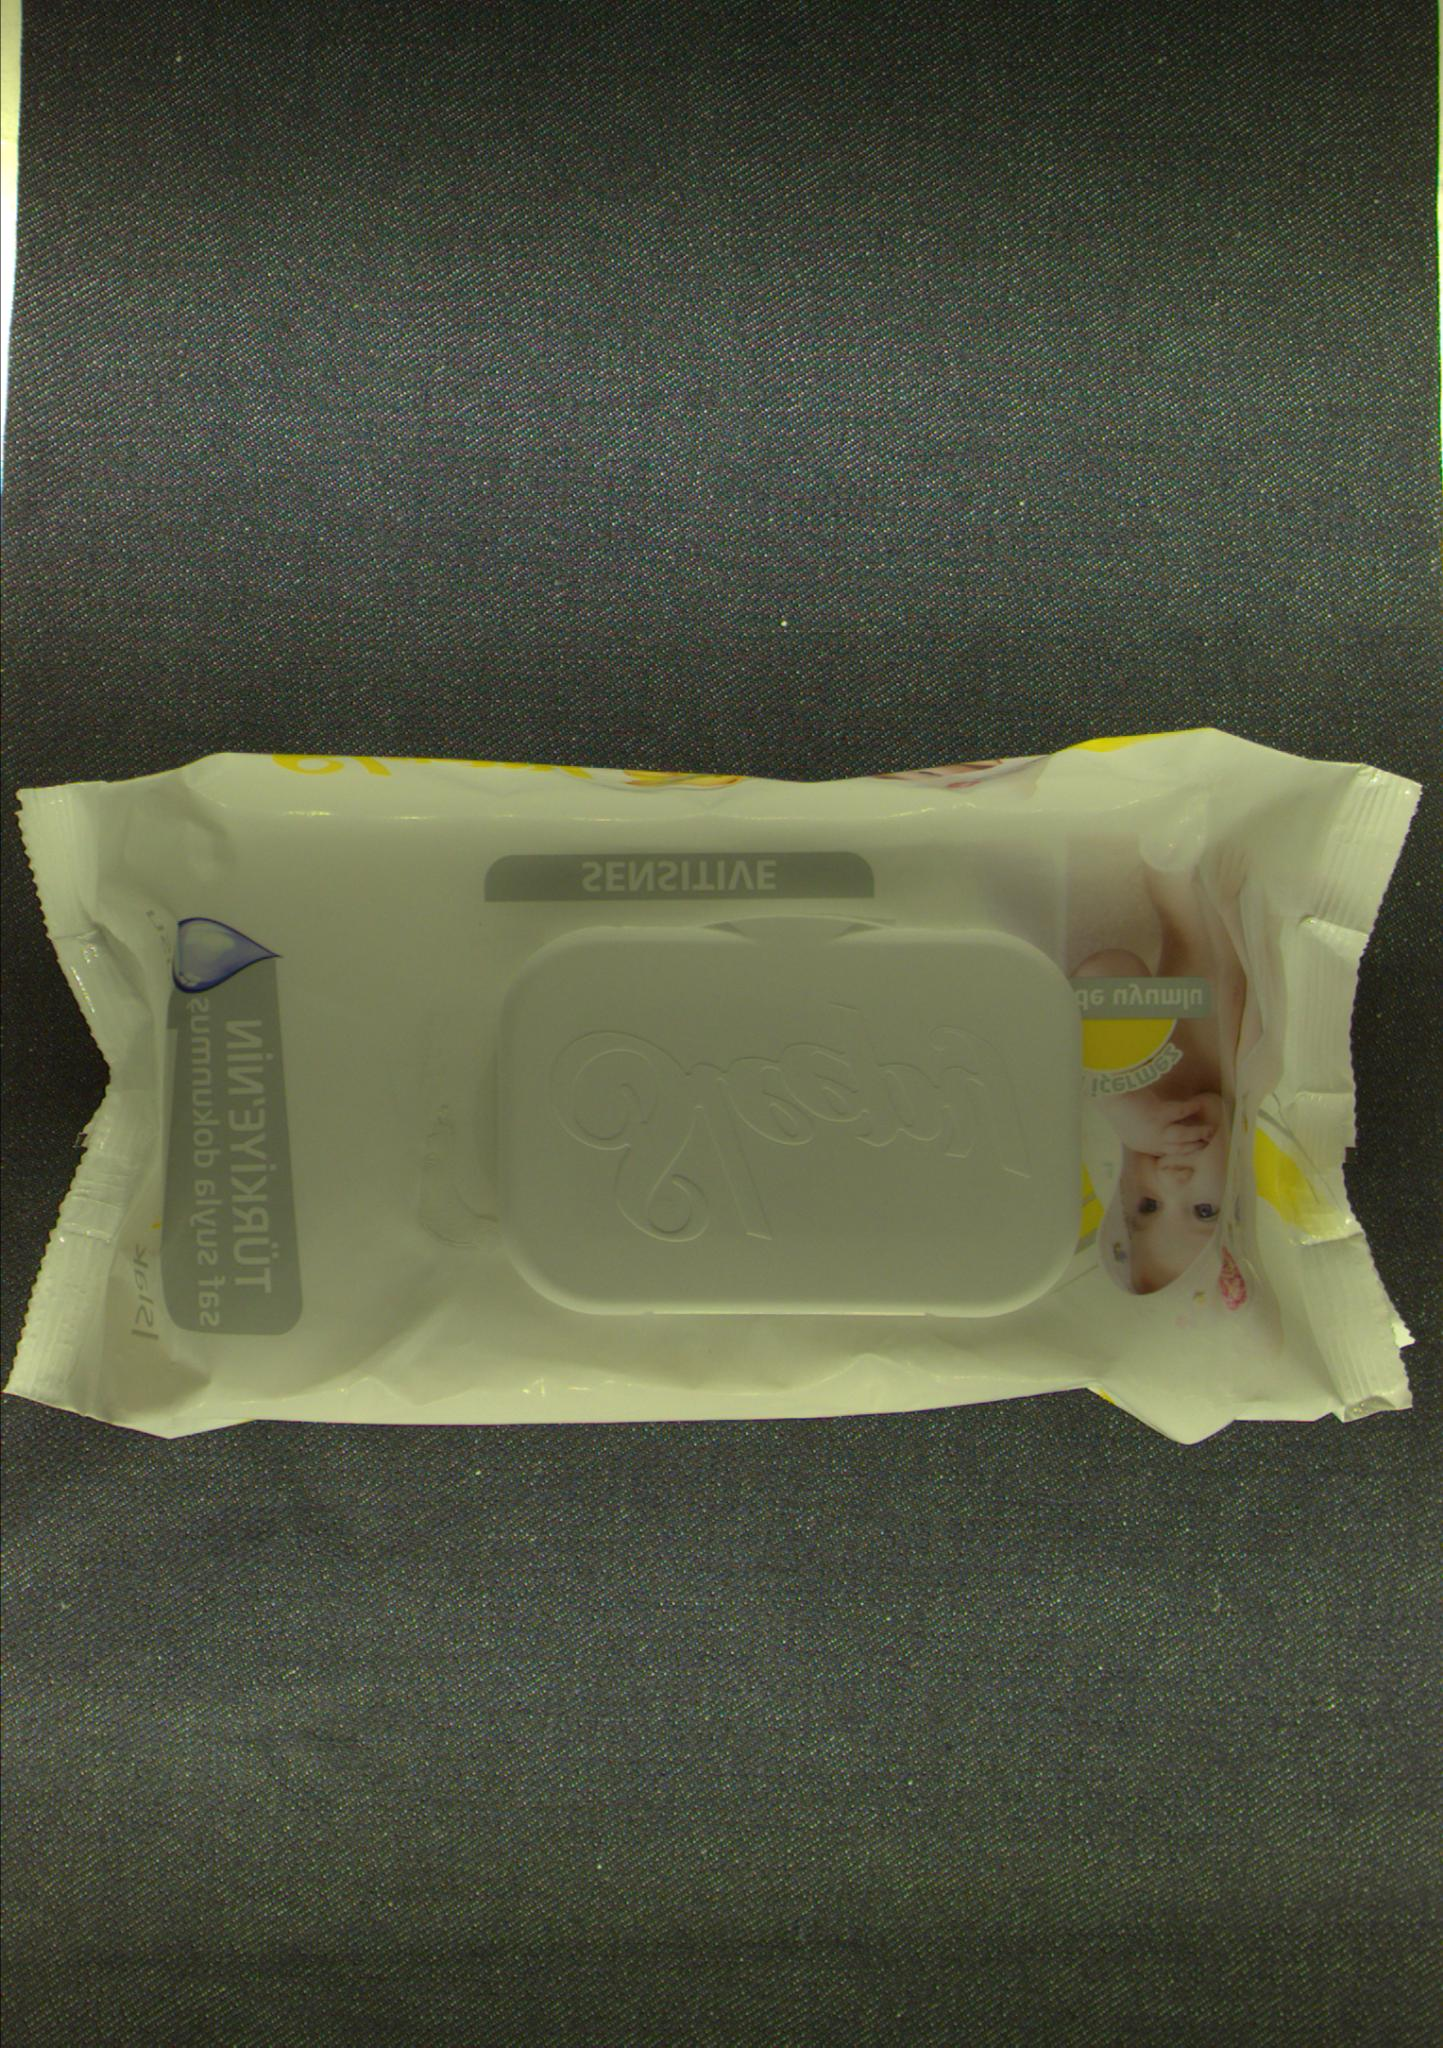kapak: (490, 913, 1087, 1319)
